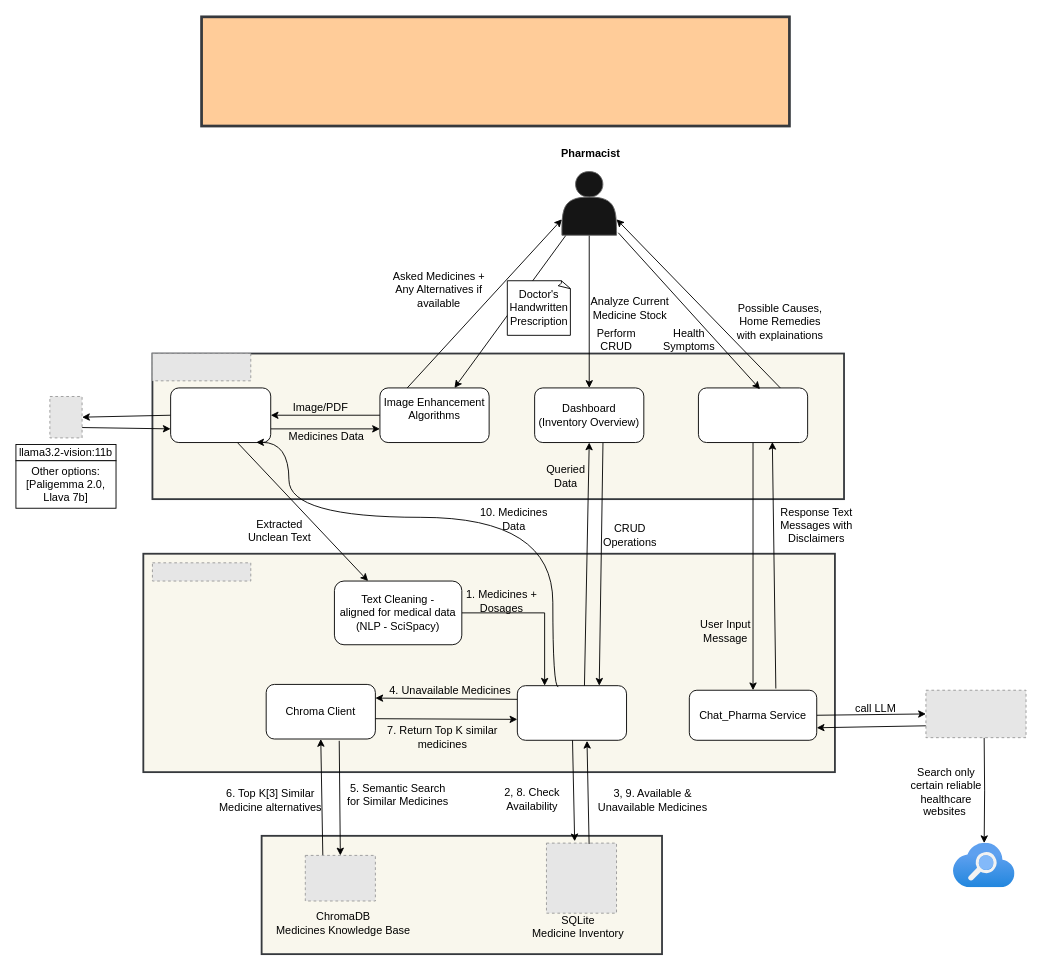
Image size: 1042x971. Some labels were removed from this diagram. Grey dashed boxes stand in for pictures. The shapes that lost their labels are listed below. From the top down, each one's centre as x and y in pixels, then its label:
point (495, 71): PharmAssist A Pharmacist’s assistant Architecture Explaination
point (220, 415): OCR Processor
point (753, 415): Chat Bot Interface
point (571, 712): Inventory Service
